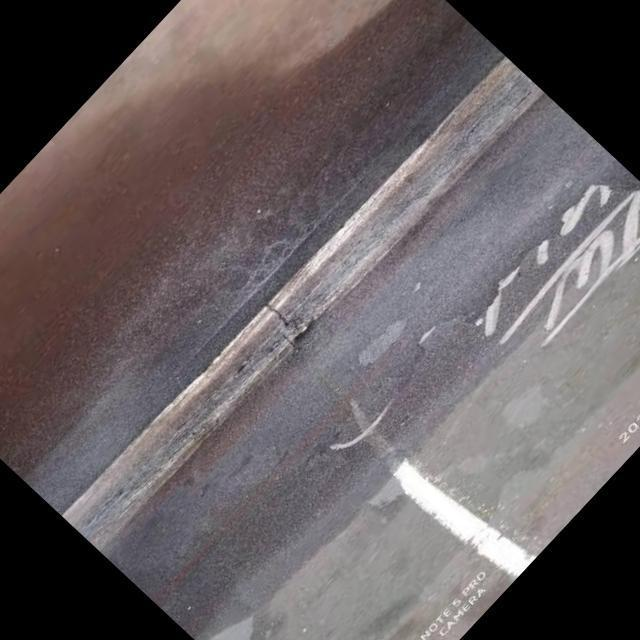defect: (263, 300, 307, 331)
